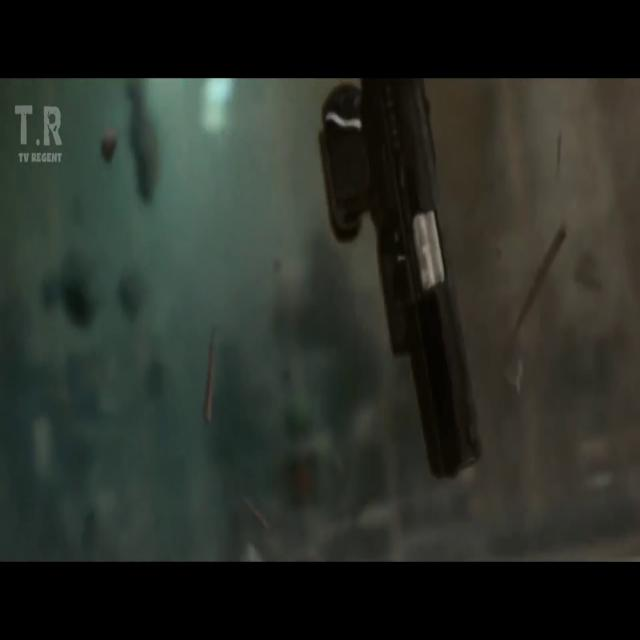handgun: (298, 76, 508, 494)
